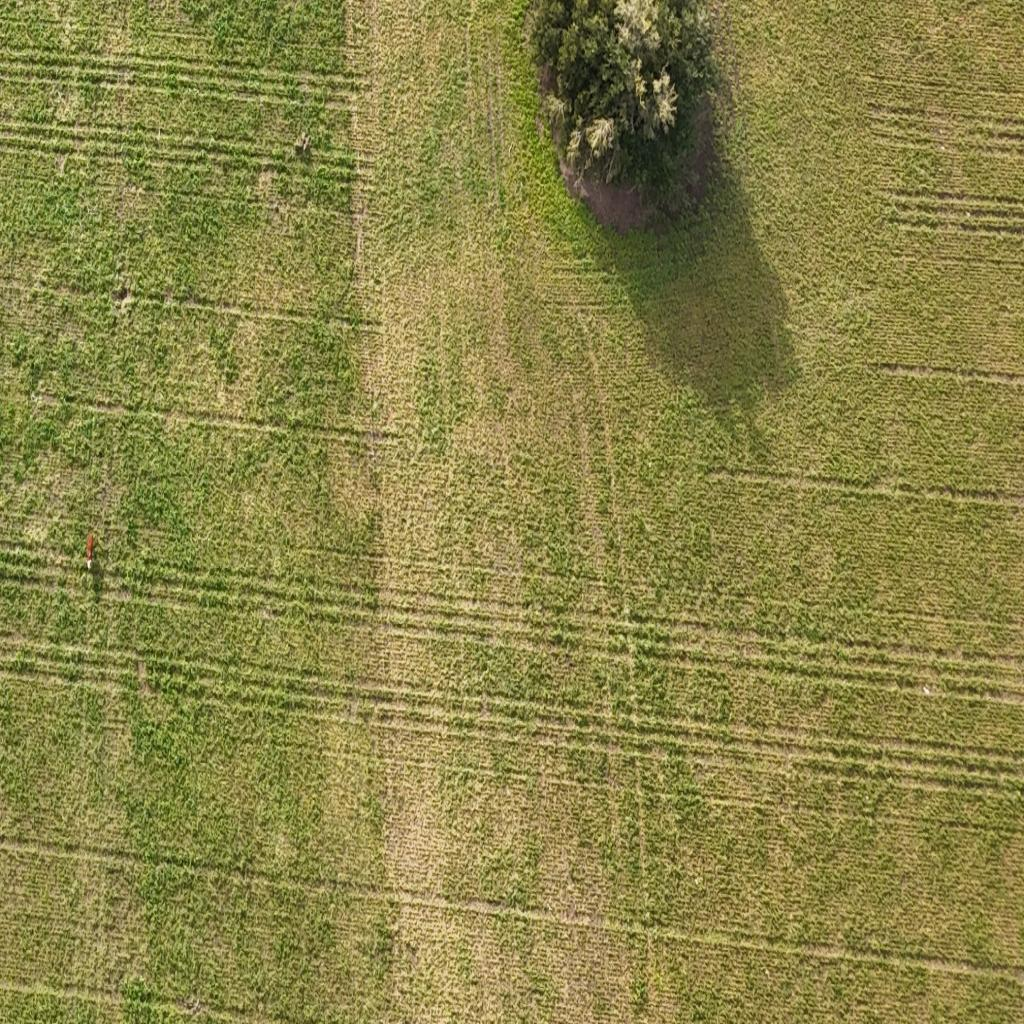cow: (85, 530, 96, 571)
